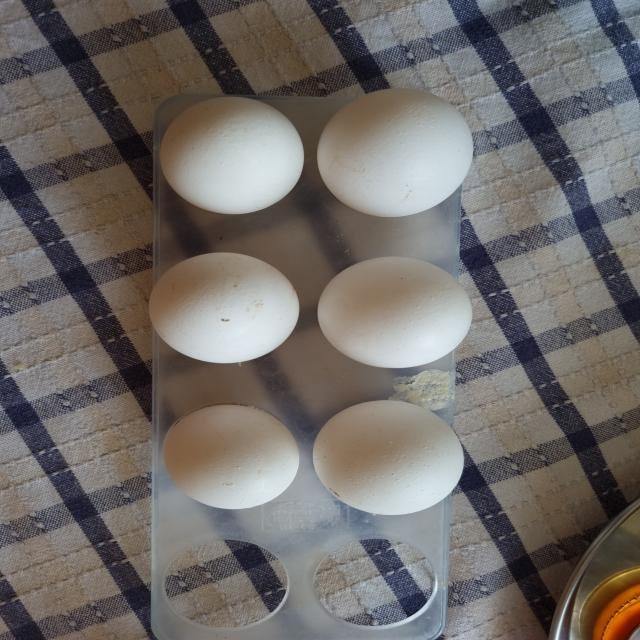Egg: (309, 239, 492, 375), (310, 85, 483, 222), (151, 84, 311, 226), (306, 389, 474, 523), (146, 244, 308, 370), (155, 396, 305, 526)
